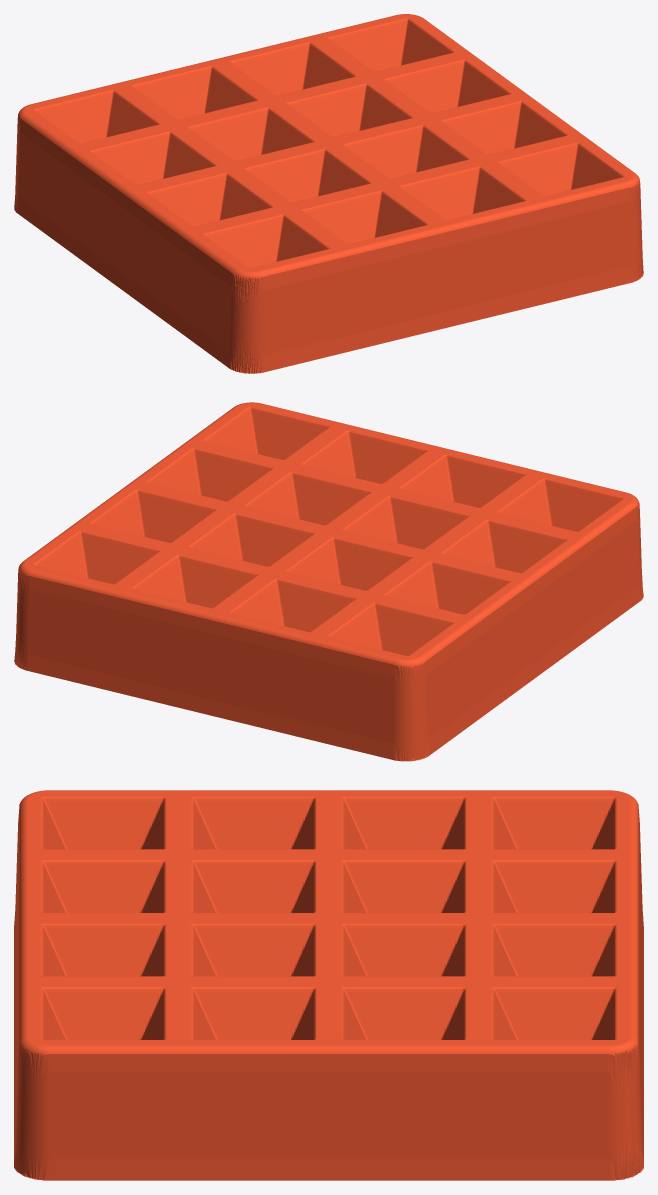
The model's file is mold.glb.
3 views of the same model, one above another, from view 1: azimuth 30°, elevation 25°; view 2: azimuth 150°, elevation 25°; view 3: azimuth 270°, elevation 25° (orthographic). The views are drawn at different scales.
Parts seen in each view (by area): view 1: geometry_0; view 2: geometry_0; view 3: geometry_0.
Part boxes in pixels (<box>): geometry_0: <box>14,14,643,373</box>; geometry_0: <box>14,402,643,761</box>; geometry_0: <box>14,790,643,1180</box>.
Bounding box in the file's own units: 0.162 × 0.0367 × 0.162.
